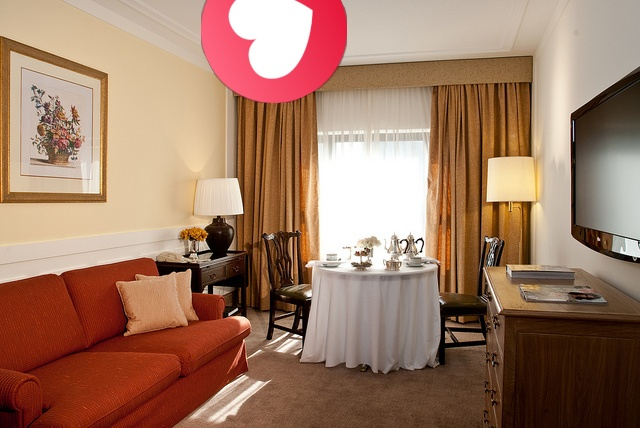love: (201, 0, 347, 103)
